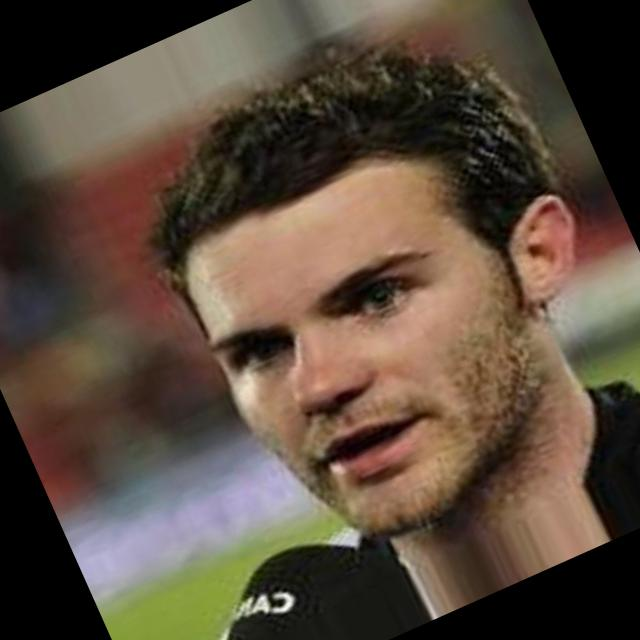bareface: (97, 27, 598, 574)
